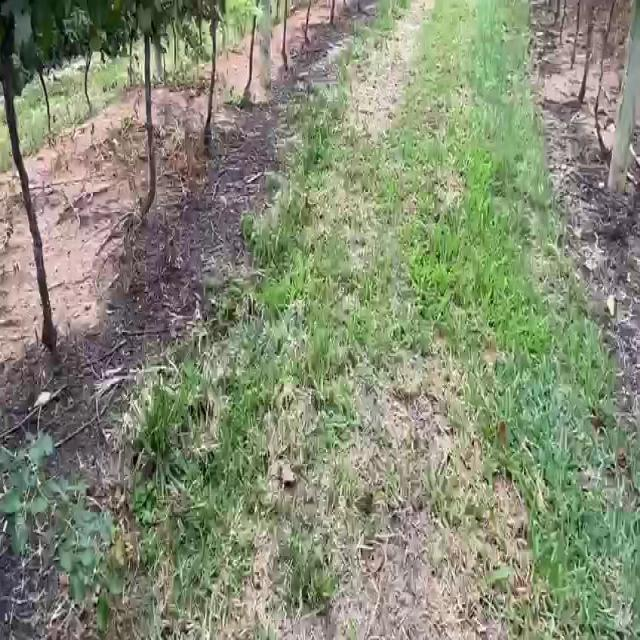tree trunk: (608, 0, 639, 191)
